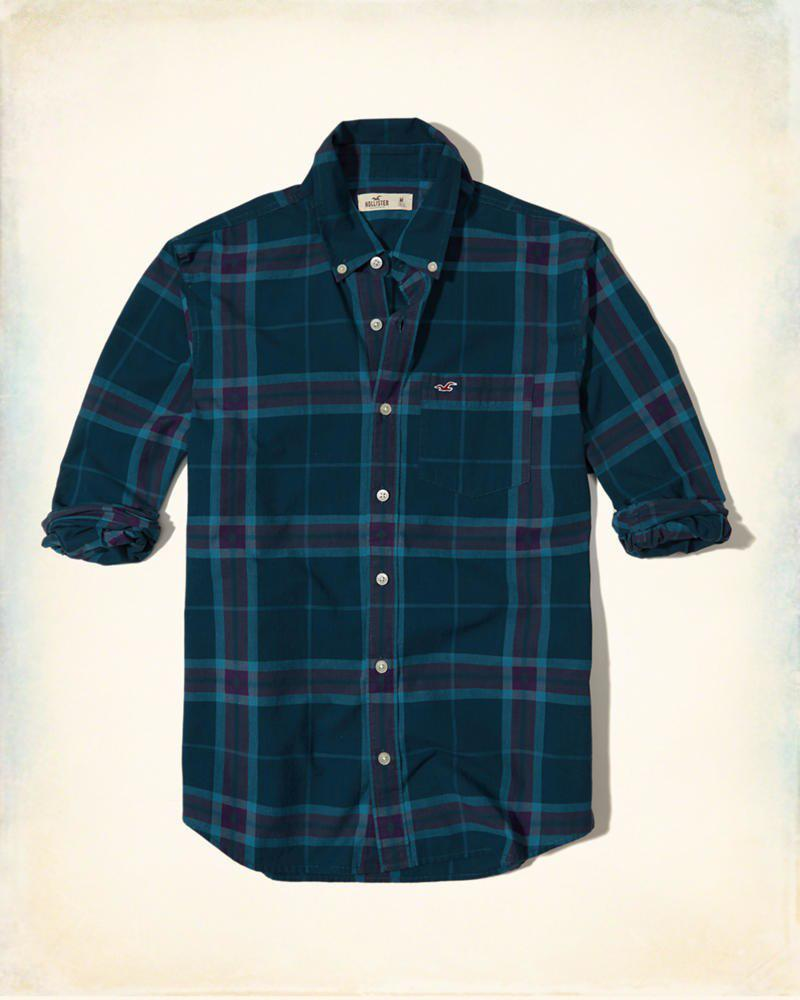teeshirt: (41, 112, 738, 887)
